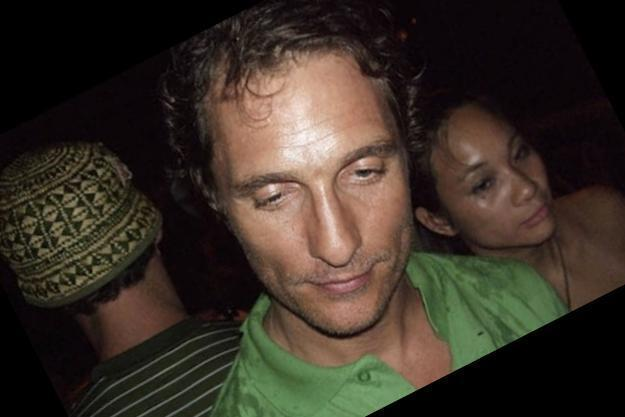Drunk: (209, 67, 416, 323), (439, 117, 555, 247)
